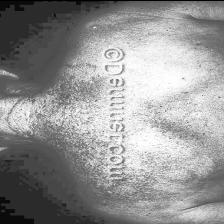Toxin: (130, 83, 198, 203), (48, 72, 110, 196)
